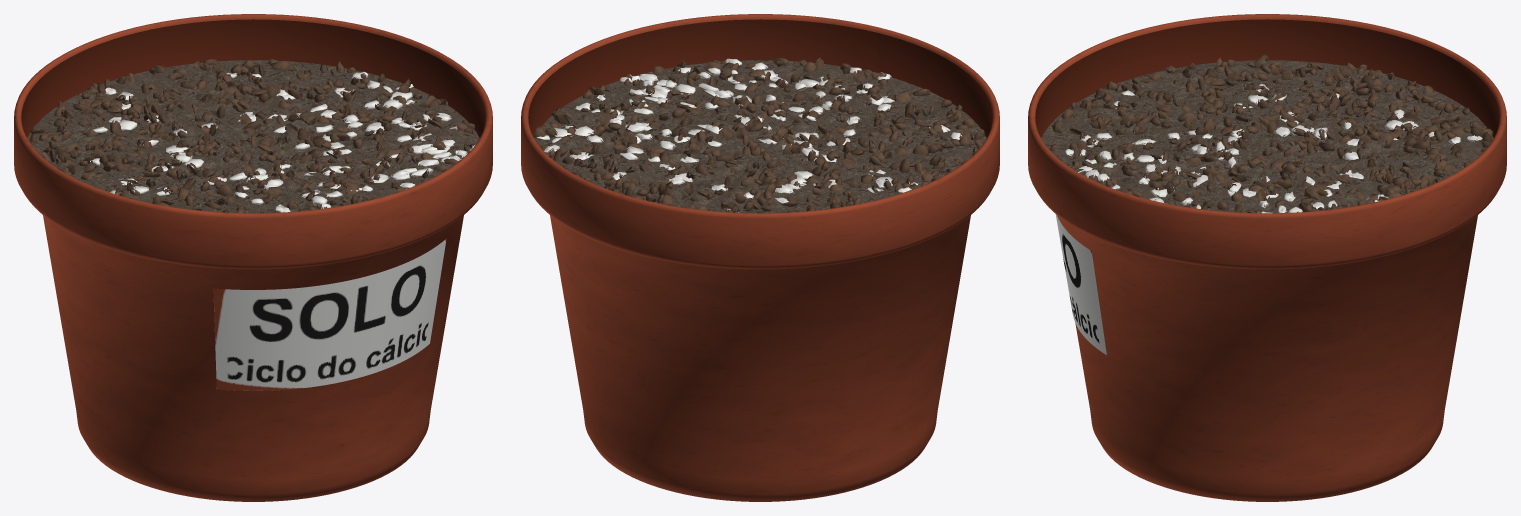
Rendered from solo_13_04_web.glb.
3 renders of one model, left to right at view 1: azimuth 30°, elevation 25°; view 2: azimuth 150°, elevation 25°; view 3: azimuth 270°, elevation 25°, orthographic.
Parts seen in each view (by area): view 1: Vaso_Solo, Solo, Rotulo_Vaso_Solo; view 2: Vaso_Solo, Solo; view 3: Vaso_Solo, Solo, Rotulo_Vaso_Solo.
Part boxes in pixels (left/top/right/bottom): Vaso_Solo: left=14, top=14, right=492, bottom=501; Solo: left=27, top=58, right=479, bottom=213; Rotulo_Vaso_Solo: left=213, top=238, right=446, bottom=390; Vaso_Solo: left=521, top=14, right=999, bottom=501; Solo: left=533, top=57, right=986, bottom=213; Vaso_Solo: left=1028, top=14, right=1506, bottom=501; Solo: left=1041, top=54, right=1493, bottom=213; Rotulo_Vaso_Solo: left=1055, top=214, right=1106, bottom=354.
Size of the model in its own units: 0.1552 by 0.1146 by 0.1552.
5 materials, 4 textured.
